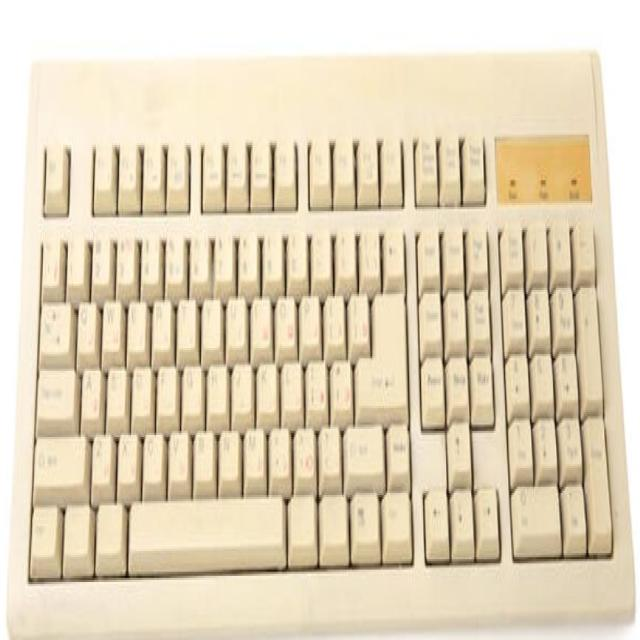electronic: (6, 47, 636, 634)
